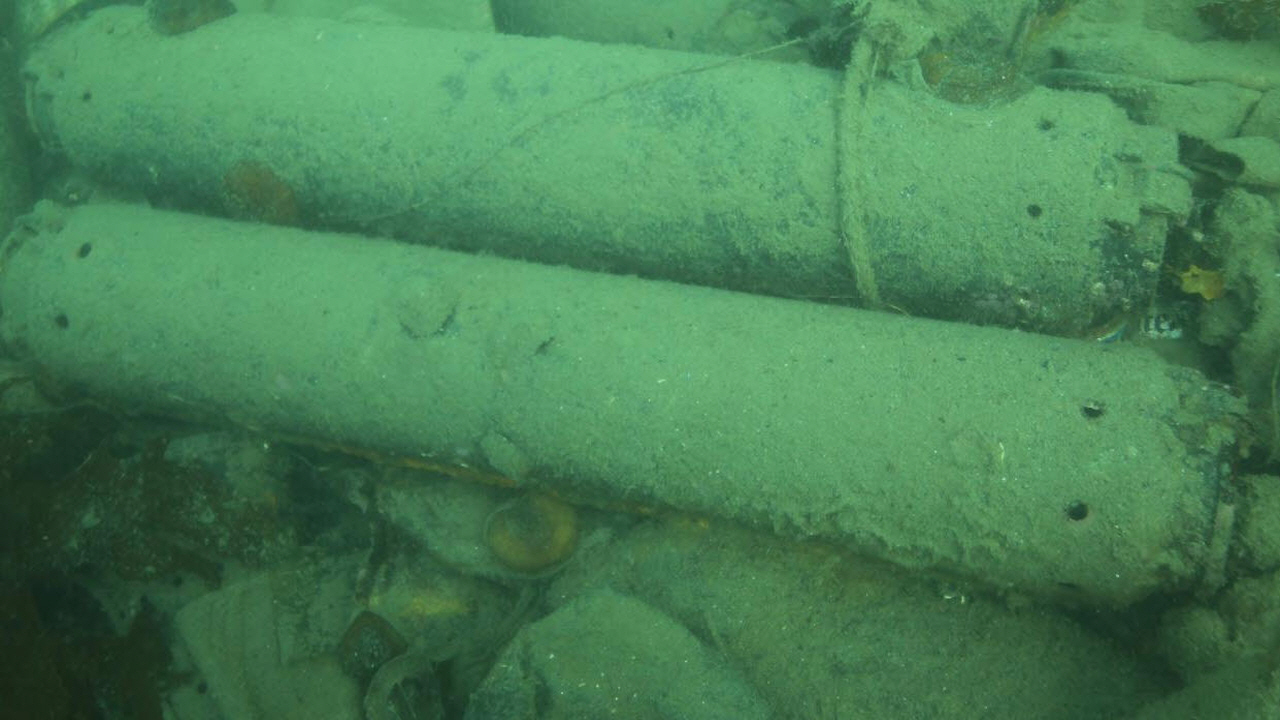eel fish trap: (0, 195, 1253, 627), (16, 0, 1196, 337)
rope: (833, 0, 895, 314)
